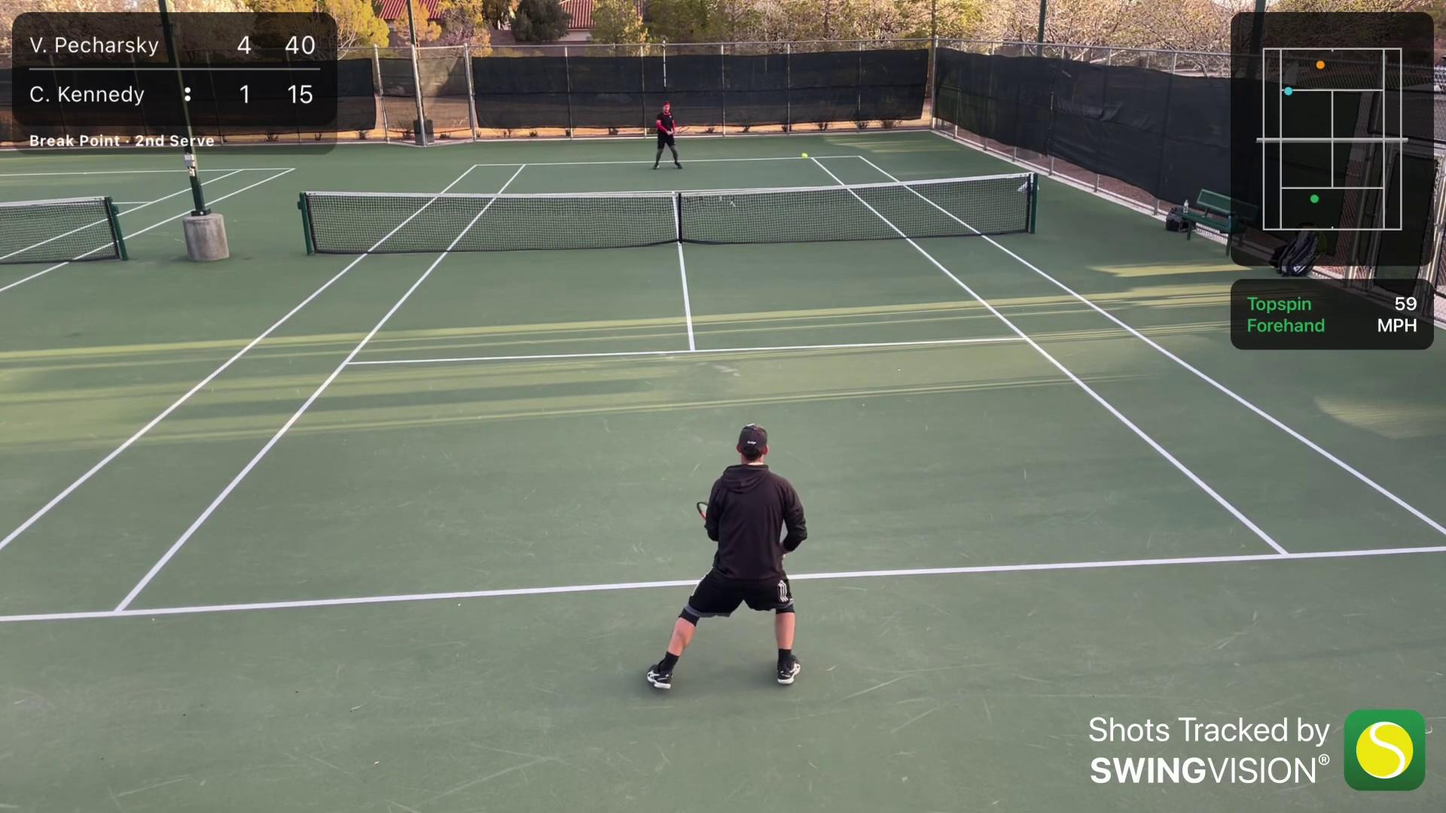ball: (802, 152, 810, 159)
